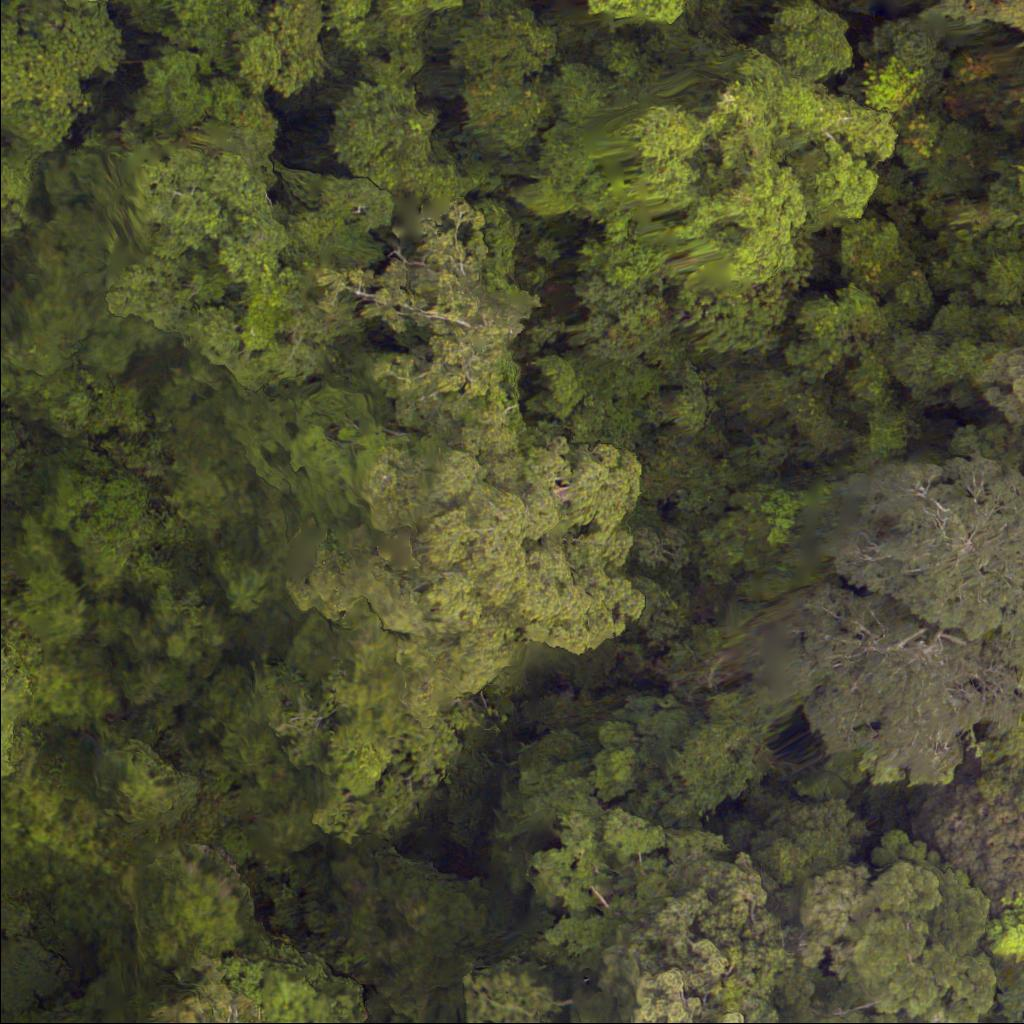crown: (295, 344, 653, 663), (610, 49, 897, 287), (570, 852, 783, 1023), (327, 843, 509, 1023), (523, 794, 718, 948), (741, 801, 881, 884), (915, 791, 1023, 888), (764, 0, 855, 79), (146, 977, 265, 1023), (582, 0, 714, 30), (996, 902, 1023, 968), (1011, 357, 1023, 424)
